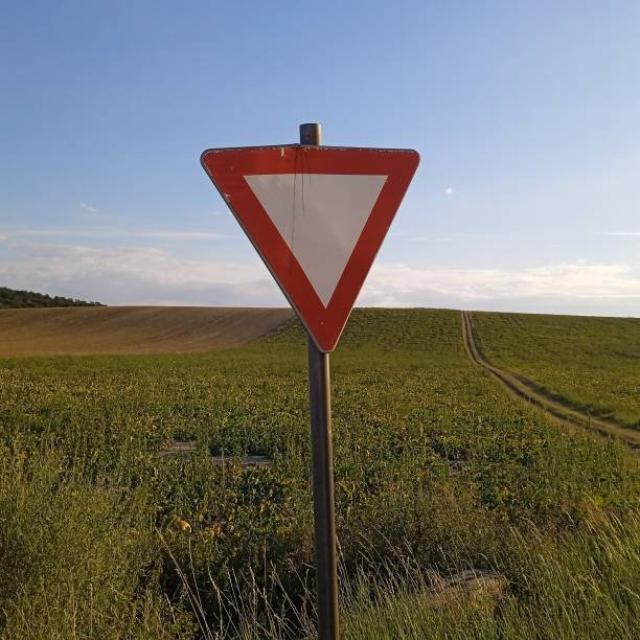give_way: (198, 132, 424, 352)
